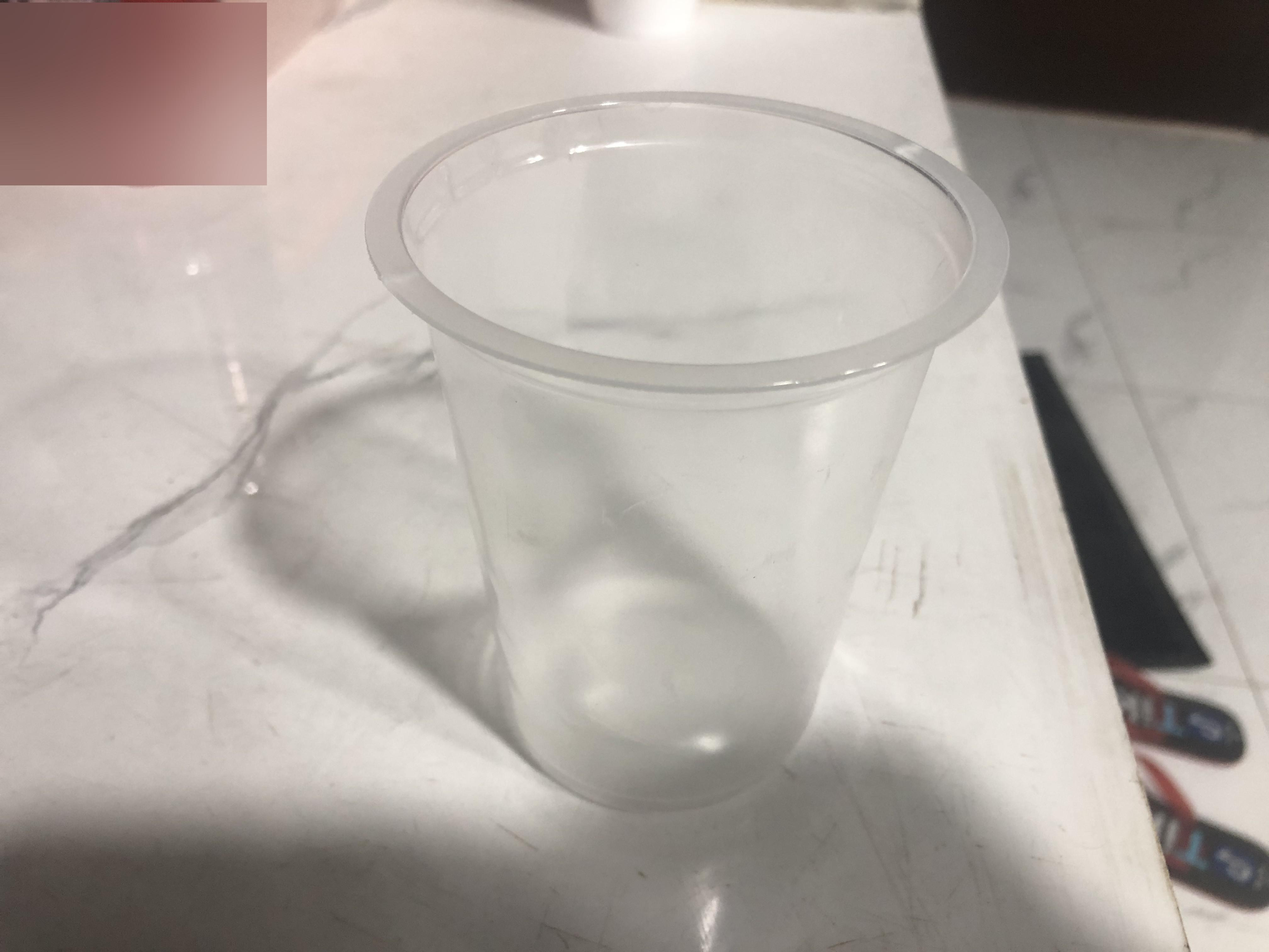cup-disposable: (361, 83, 1014, 819)
